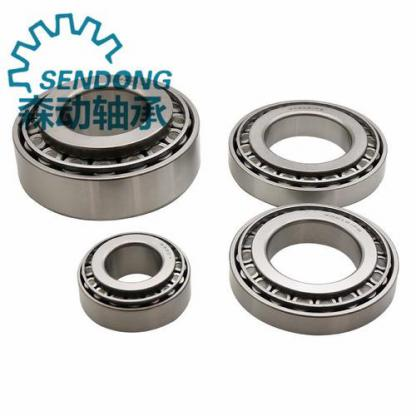FOD: (11, 66, 204, 224), (226, 200, 400, 340), (223, 95, 390, 209), (74, 231, 195, 336)
